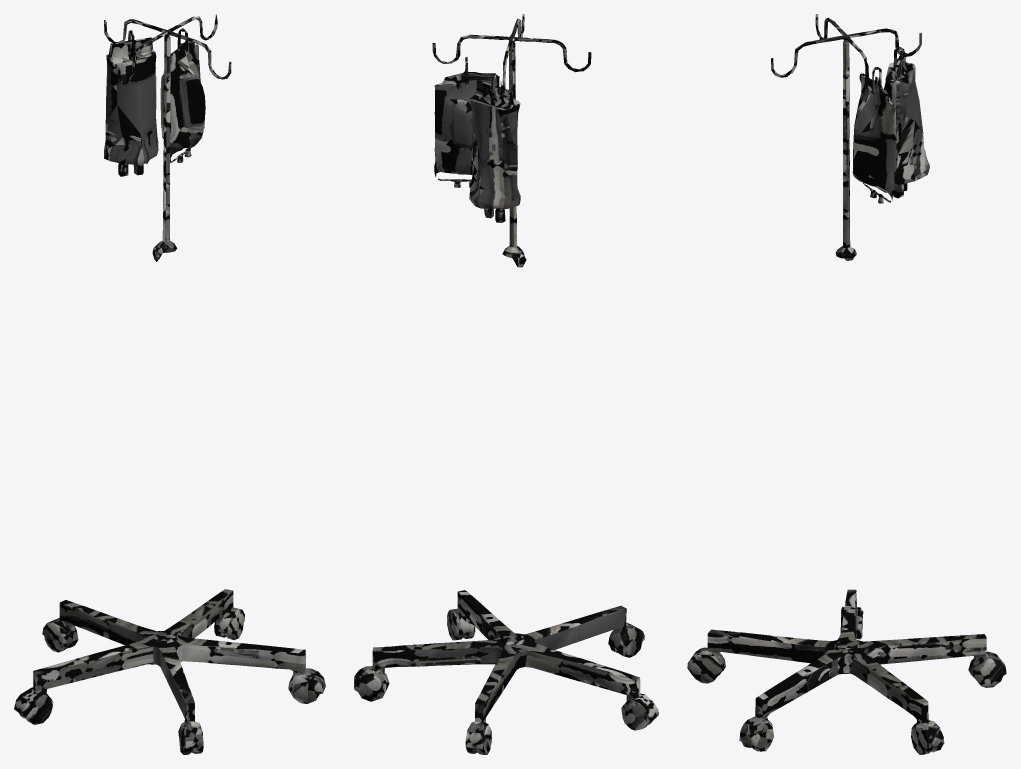
The picture shows the model from 3 angles, left to right: view 1: azimuth 30°, elevation 25°; view 2: azimuth 150°, elevation 25°; view 3: azimuth 270°, elevation 25°; orthographic projection.
Visible parts, largest first — view 1: repaired; view 2: repaired; view 3: repaired.
Part boxes in pixels (box(x1,y1,x2,y2)): repaired: box(14, 14, 325, 754); repaired: box(354, 14, 658, 754); repaired: box(687, 14, 1006, 754).
Bounding box in the file's own units: 0.4186 × 1 × 0.4336.
